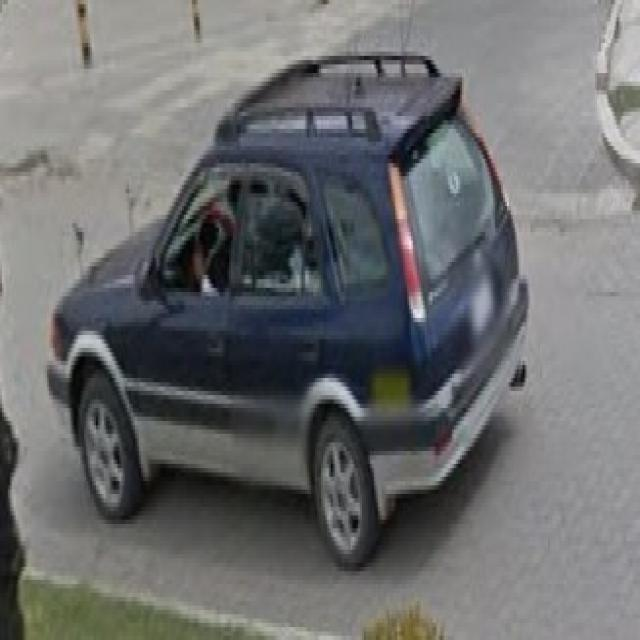cars: (62, 61, 528, 558)
